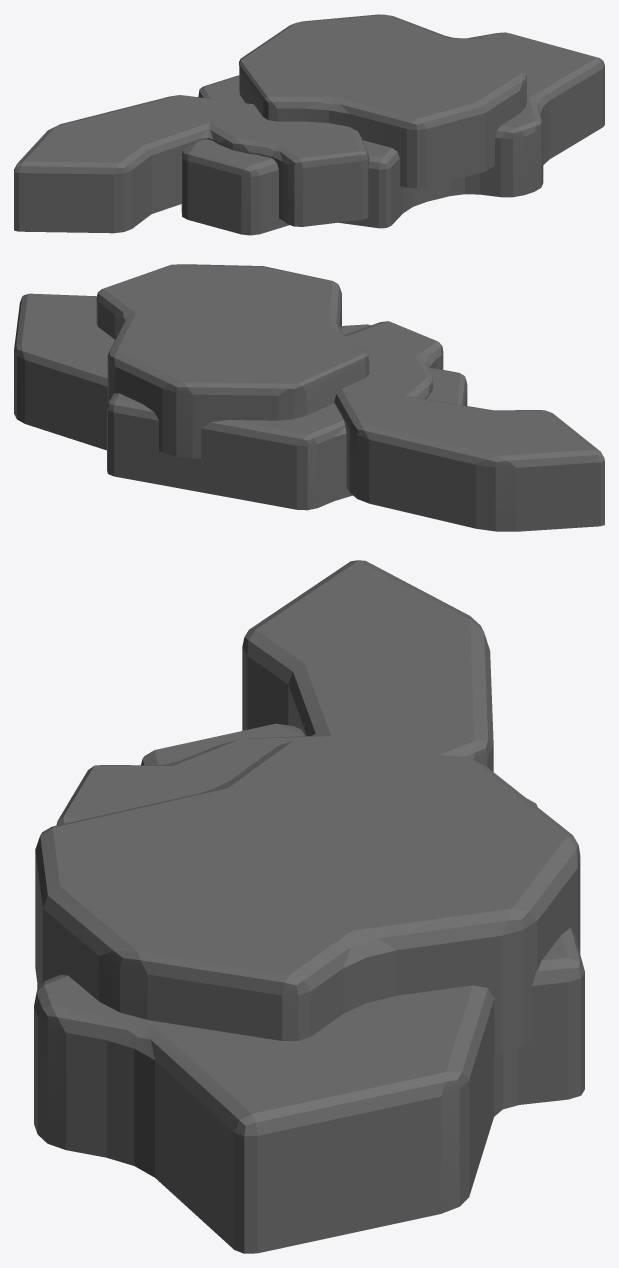
Rendered from mesh_Factory_Ground_Outside_Isle_C.fbx.
3 views of the same model, one above another, from view 1: azimuth 30°, elevation 25°; view 2: azimuth 150°, elevation 25°; view 3: azimuth 270°, elevation 25° (orthographic). The views are drawn at different scales.
Visible parts, largest first — view 1: mesh_Factory_Ground_Outside_Isle_C; view 2: mesh_Factory_Ground_Outside_Isle_C; view 3: mesh_Factory_Ground_Outside_Isle_C.
Part boxes in pixels (x1=…): mesh_Factory_Ground_Outside_Isle_C: x1=14, y1=14, x2=604, y2=235; mesh_Factory_Ground_Outside_Isle_C: x1=14, y1=264, x2=604, y2=531; mesh_Factory_Ground_Outside_Isle_C: x1=34, y1=560, x2=584, y2=1253.
Size of the model in its own units: 15.21 by 2.53 by 6.46.
